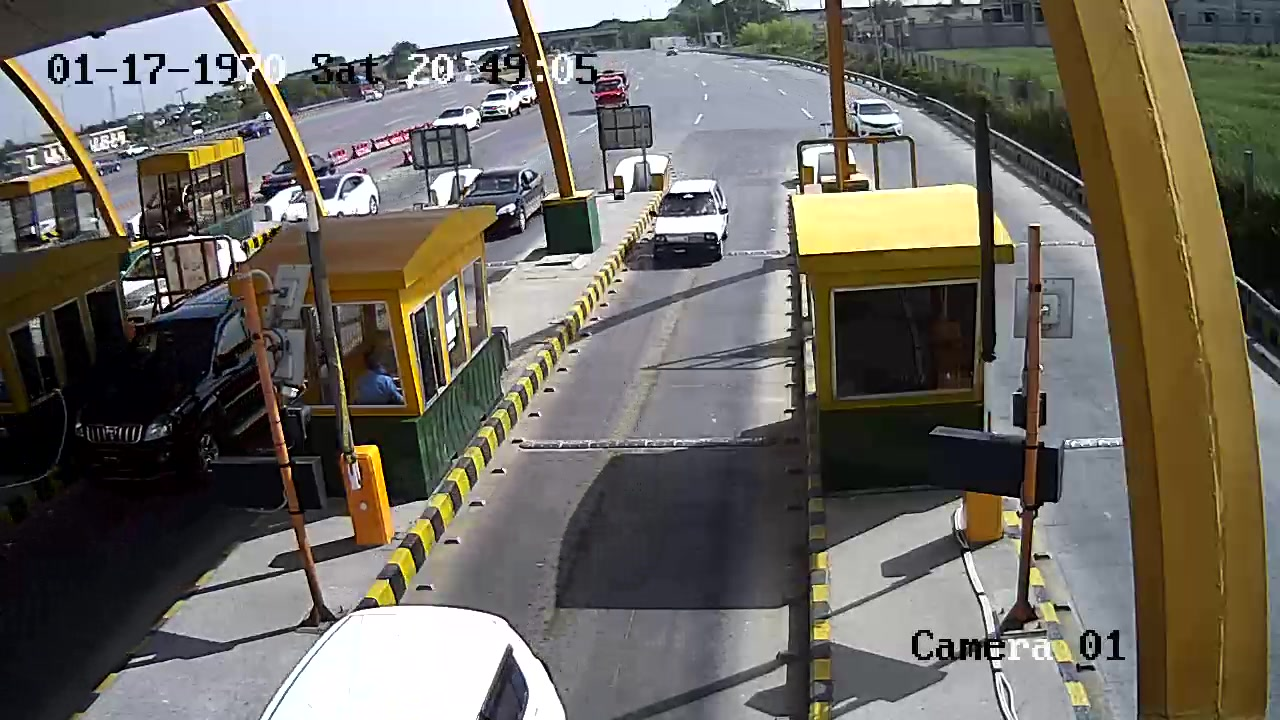F1: (650, 173, 741, 279)
